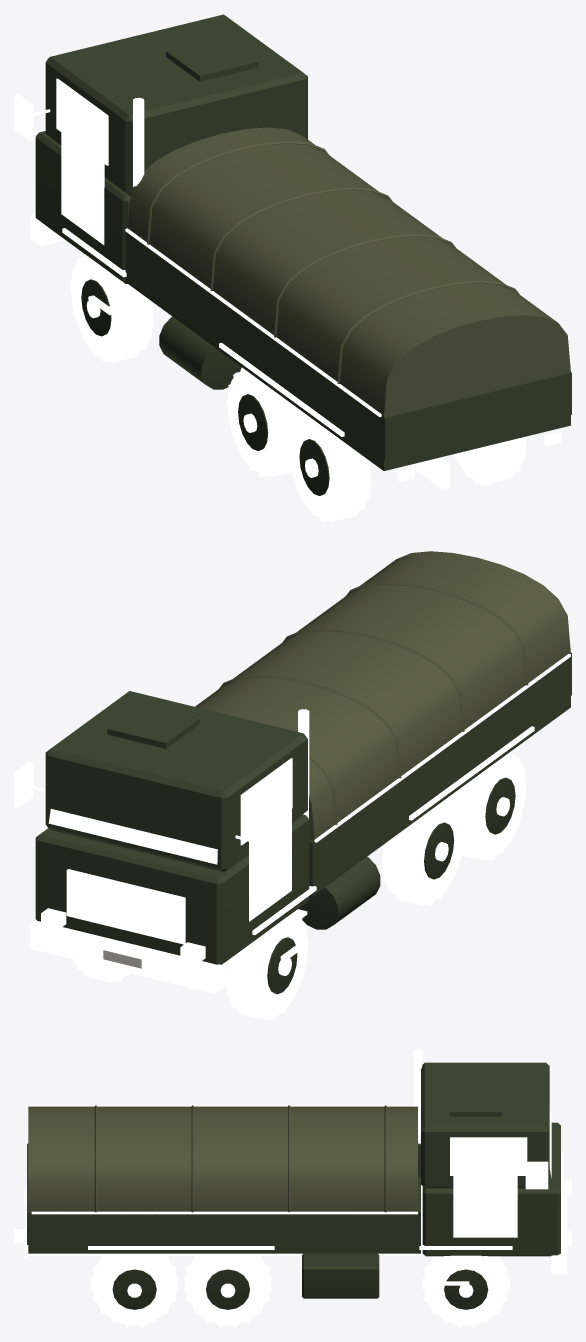
Rendered from truck_6x6.glb.
The picture shows the model from 3 angles, top to bottom: view 1: azimuth 30°, elevation 25°; view 2: azimuth 150°, elevation 25°; view 3: azimuth 270°, elevation 25°; orthographic projection. The views are drawn at different scales.
Visible parts, largest first — view 1: truck_6x6_LOD0; view 2: truck_6x6_LOD0; view 3: truck_6x6_LOD0.
Part boxes in pixels (box(x1,y1,x2,y2)): truck_6x6_LOD0: box(14, 14, 571, 522); truck_6x6_LOD0: box(14, 551, 571, 1020); truck_6x6_LOD0: box(14, 1049, 571, 1327).
Size of what is drawn, in the model's own units: 3.31 by 3.64 by 8.67.
